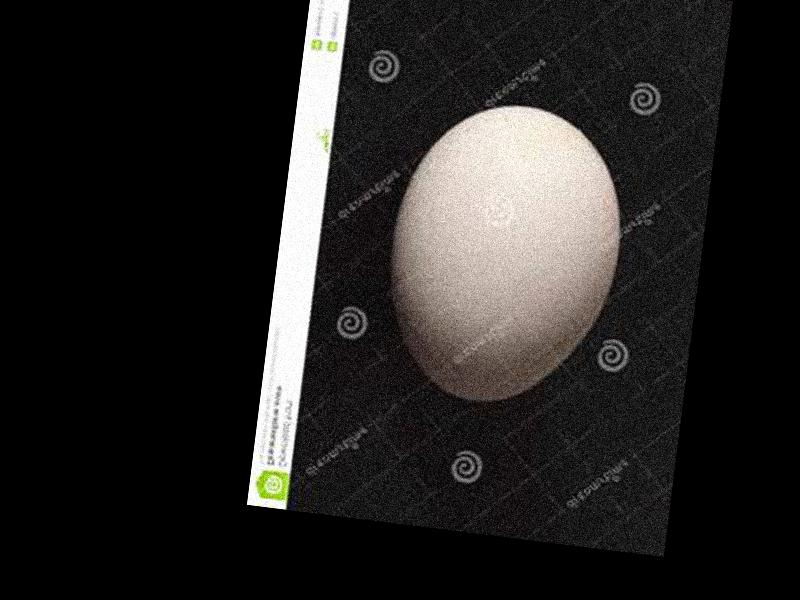Eggs: (375, 90, 634, 416)
